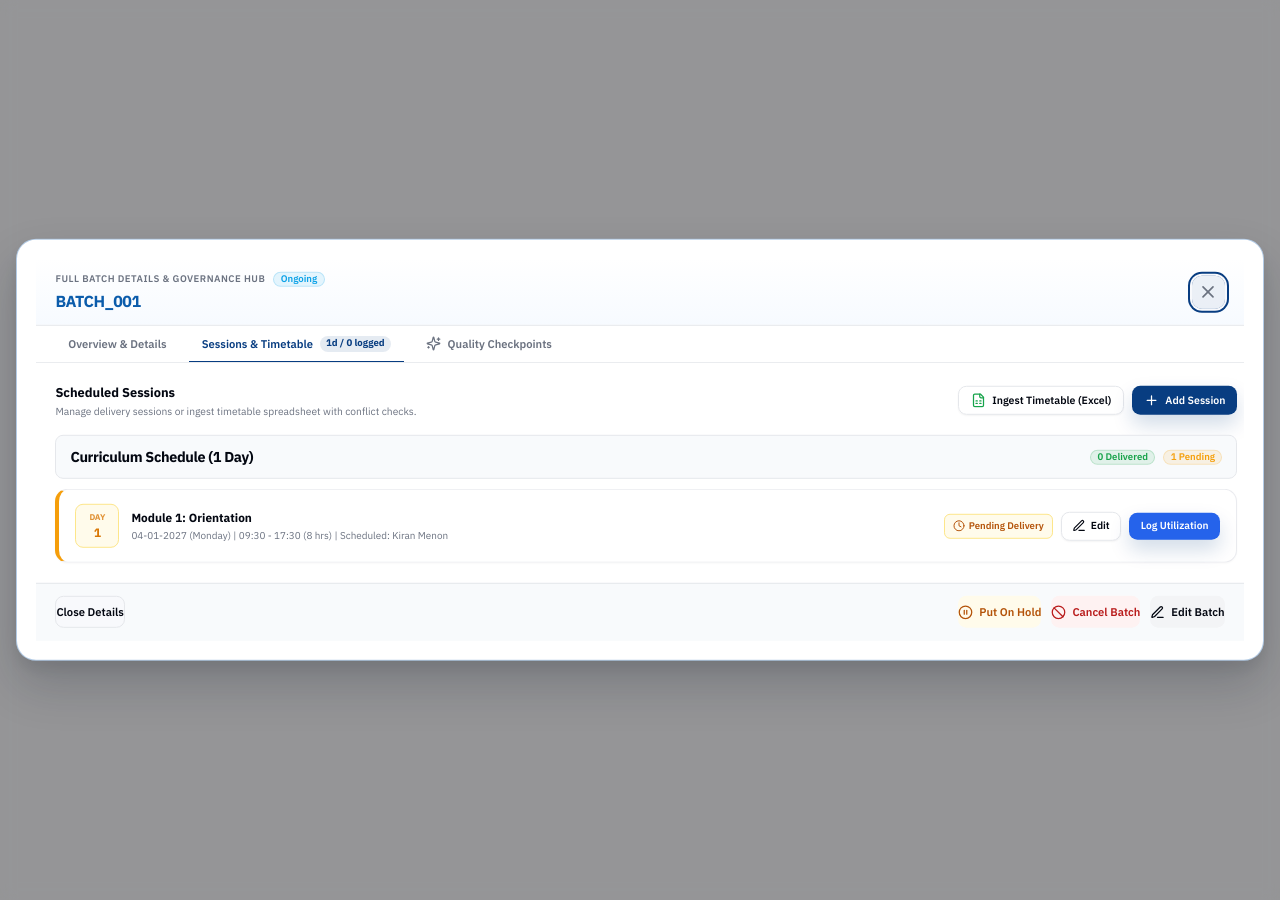
Test: Log Faculty Utilization modal › closes on the close button
Click the button "Log Utilization".
click(1175, 526)  # box [1129,513,1220,540]
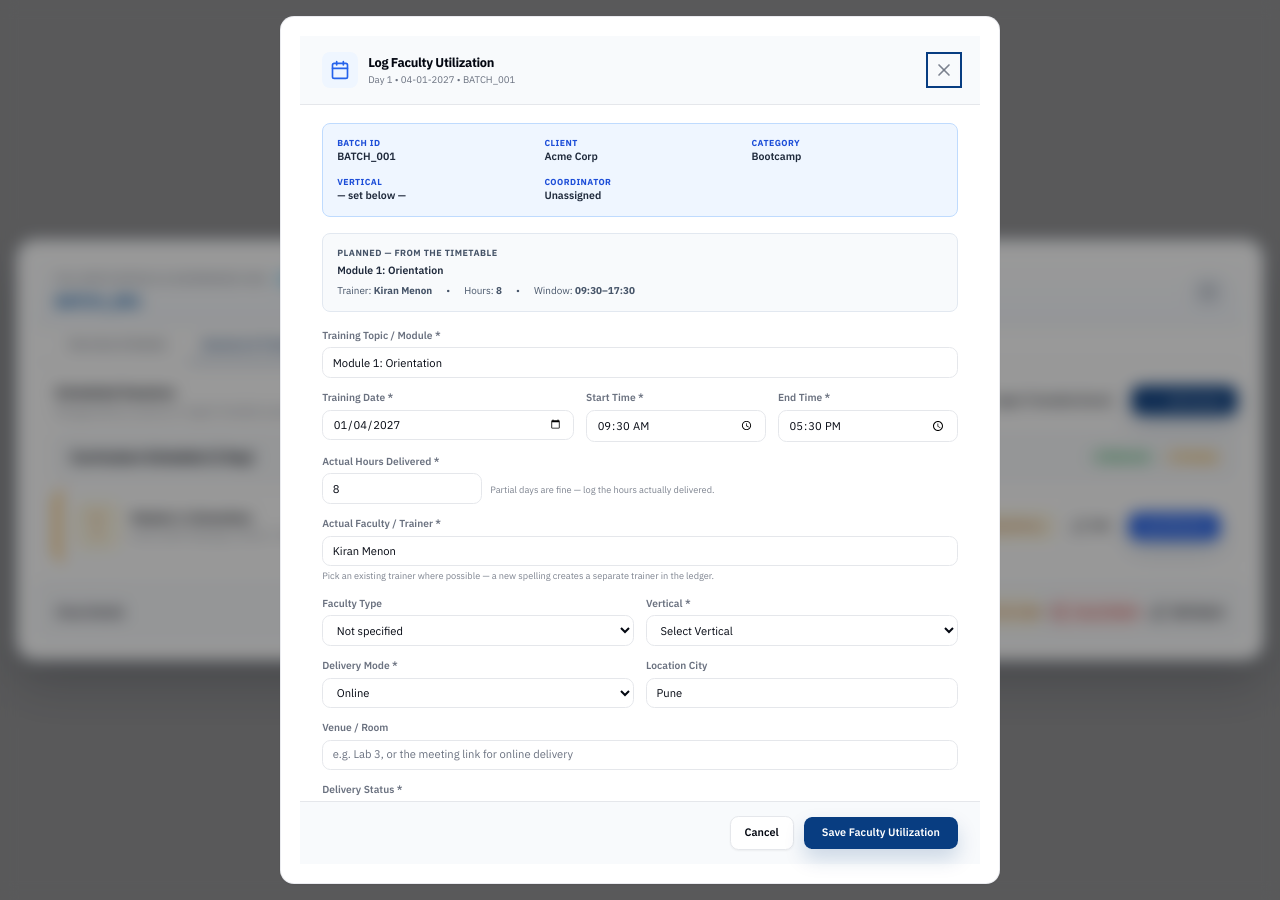
expect the dialog "Log Faculty Utilization" is shown: met, box [280,16,1000,884]
Click the button named "Close log utilization dialog".
click(944, 70)  # box [930,56,958,84]
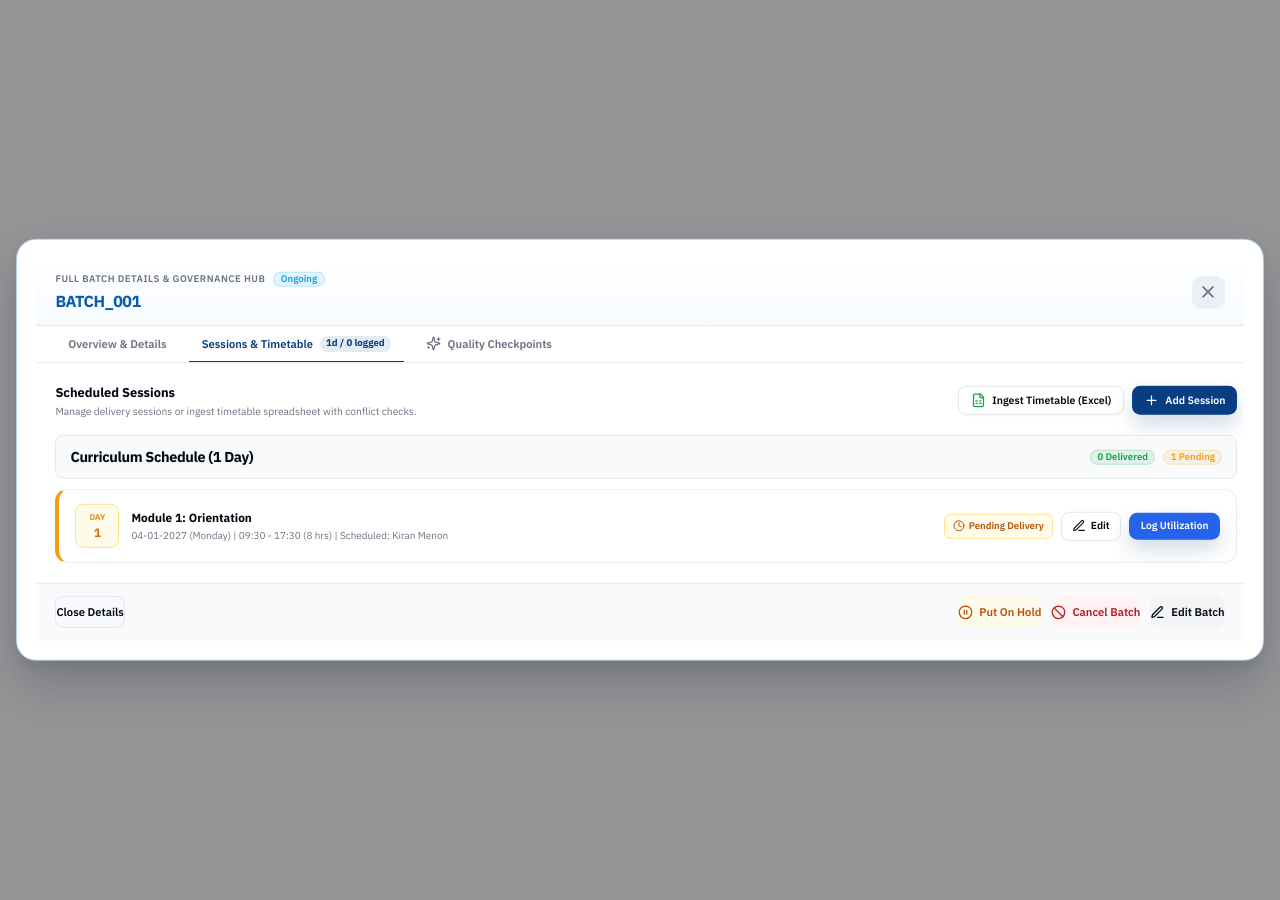
expect the heading "Log Faculty Utilization" is gone: met
